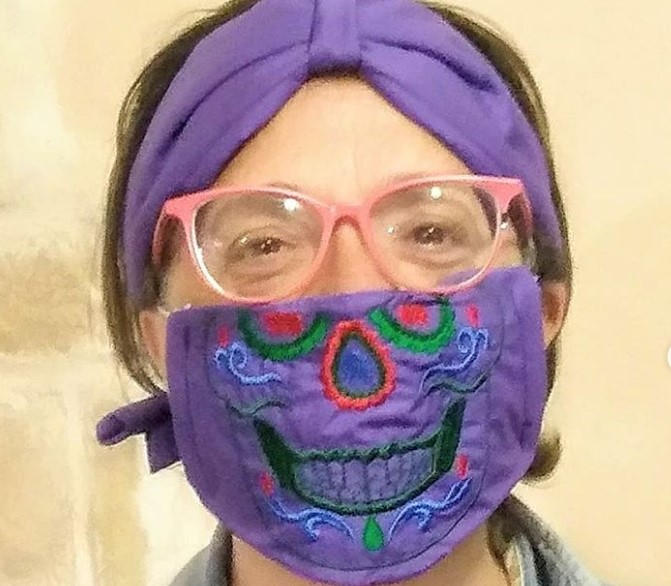face_with_mask: (107, 9, 566, 581)
